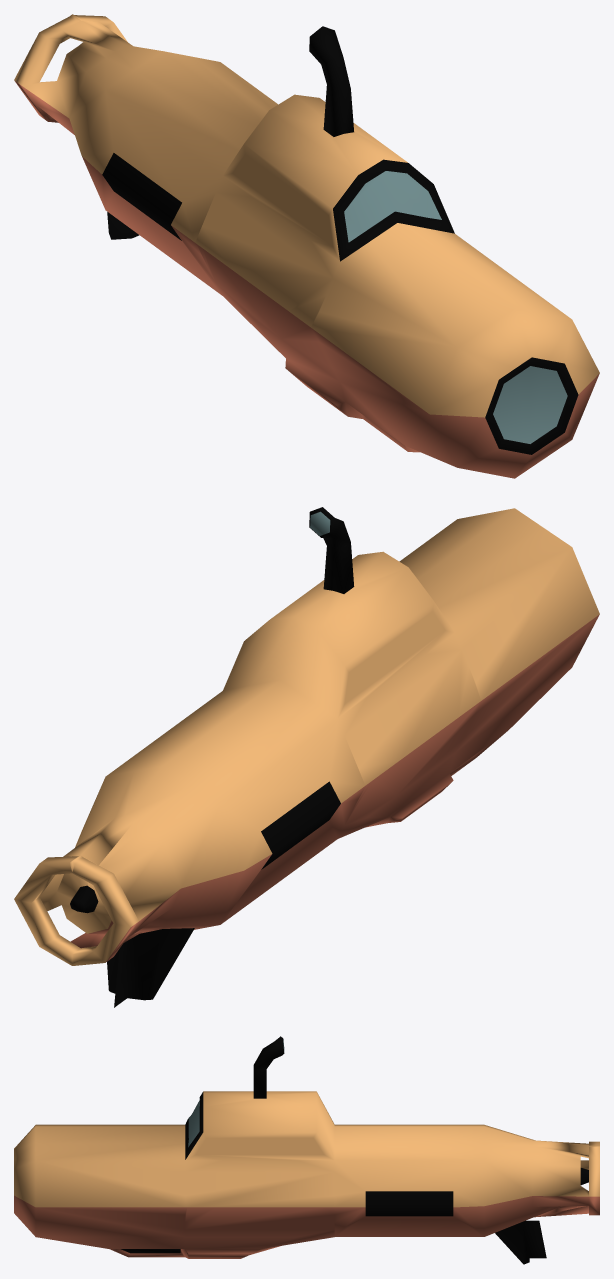
File: Submarine.glb
The picture shows the model from 3 angles, top to bottom: view 1: azimuth 30°, elevation 25°; view 2: azimuth 150°, elevation 25°; view 3: azimuth 270°, elevation 25°; orthographic projection. The views are drawn at different scales.
Parts seen in each view (by area): view 1: Submarine, Periscope; view 2: Submarine, Periscope; view 3: Submarine, Periscope.
Boxes of the visible parts, bbox=[...] form: Submarine: bbox=[14, 14, 599, 478]; Periscope: bbox=[309, 26, 353, 136]; Submarine: bbox=[14, 508, 599, 1007]; Periscope: bbox=[309, 507, 354, 593]; Submarine: bbox=[14, 1091, 599, 1264]; Periscope: bbox=[253, 1036, 284, 1098].
Size of the model in its own units: 4.19 by 8.28 by 19.59.
